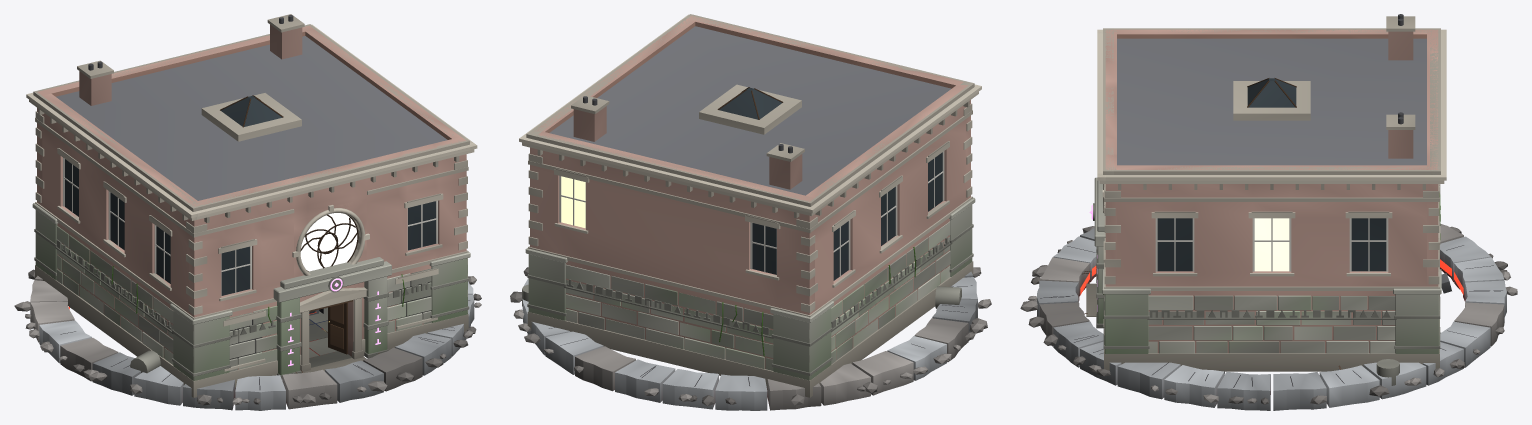
The model's file is sites.glb.
3 renders of one model, left to right at view 1: azimuth 30°, elevation 25°; view 2: azimuth 150°, elevation 25°; view 3: azimuth 270°, elevation 25°, orthographic. The views are drawn at different scales.
Parts seen in each view (by area): view 1: Sanctum, VaultWalls, GooPoolRim; view 2: Sanctum, VaultWalls, GooPoolRim; view 3: Sanctum, GooPoolRim, VaultWalls.
Boxes of the visible parts, x1,y1,x2,y2 form: Sanctum: (26, 14, 477, 397); VaultWalls: (32, 203, 470, 380); GooPoolRim: (14, 269, 481, 410); Sanctum: (519, 14, 981, 397); VaultWalls: (522, 197, 975, 380); GooPoolRim: (510, 267, 991, 410); Sanctum: (1086, 14, 1446, 371); GooPoolRim: (1020, 223, 1517, 410); VaultWalls: (1089, 177, 1441, 385).
Size of what is drawn, in the model's own units: 17.71 by 10.55 by 17.96.
